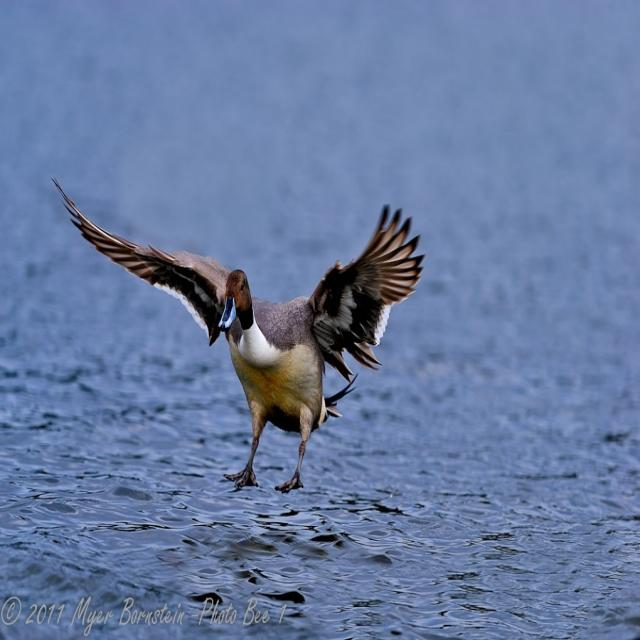bird: (48, 174, 428, 490)
